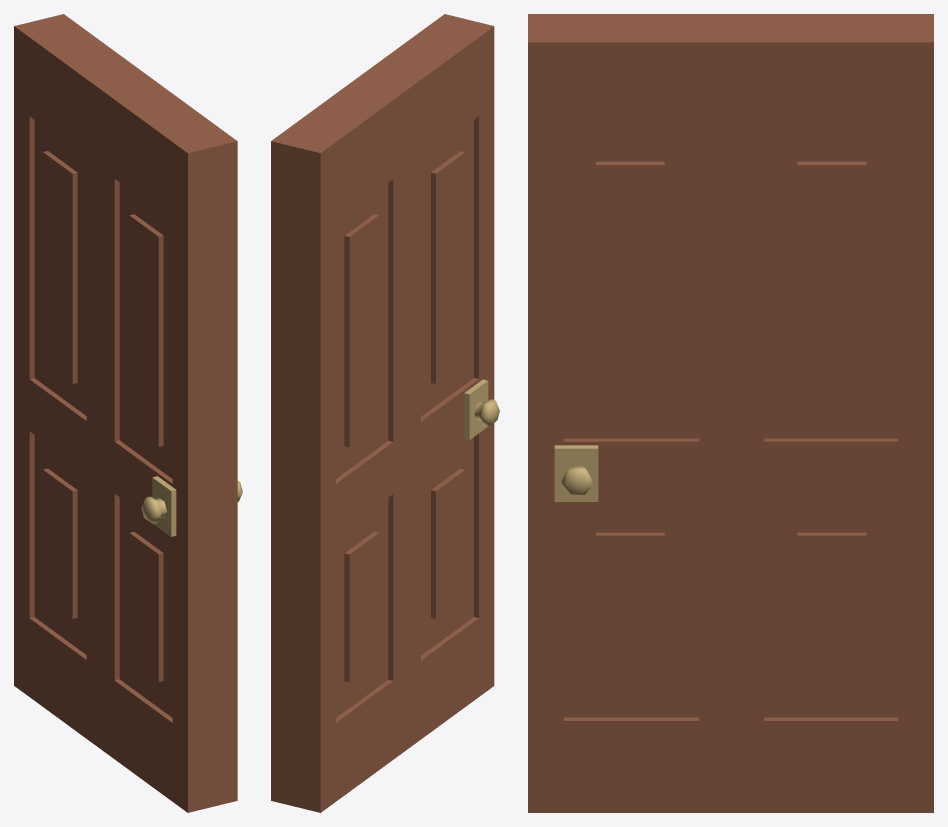
File: Door_2.fbx
3 views of the same model, side by side, from view 1: azimuth 30°, elevation 25°; view 2: azimuth 150°, elevation 25°; view 3: azimuth 270°, elevation 25° (orthographic). The views are drawn at different scales.
Visible parts, largest first — view 1: 09.007; view 2: 09.007; view 3: 09.007.
Part boxes in pixels (x1,y1,x2,y2): 09.007: (14, 14, 242, 812); 09.007: (271, 14, 499, 812); 09.007: (528, 14, 933, 812).
Size of the model in its own units: 38.09 by 251 by 120.
Materials: 1 (1 with a texture image).
